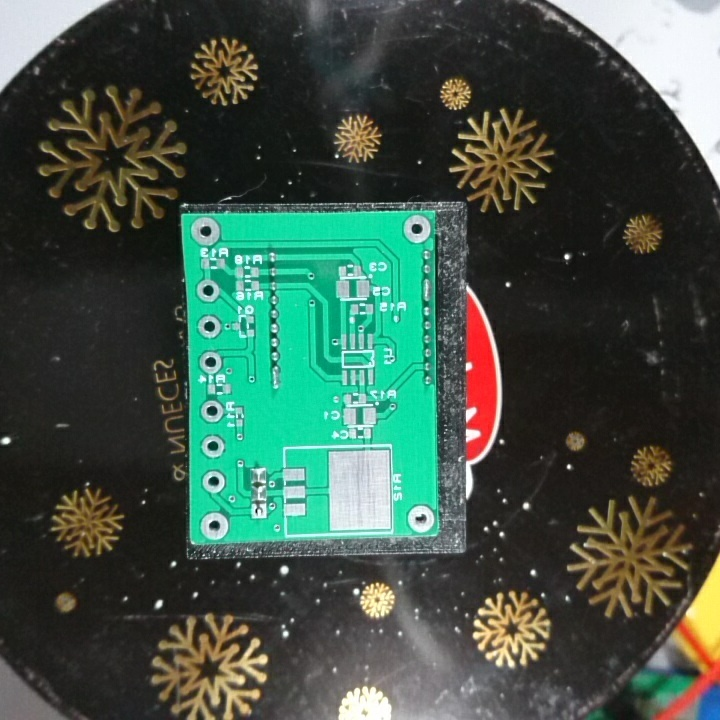F: (187, 215, 226, 250), (197, 508, 230, 543), (401, 212, 433, 245), (405, 504, 436, 536), (194, 312, 223, 343), (196, 347, 225, 378), (199, 433, 228, 462), (198, 398, 225, 429), (194, 278, 223, 306), (200, 467, 225, 498), (248, 500, 270, 524)
P: (268, 363, 282, 394), (419, 275, 433, 304)
